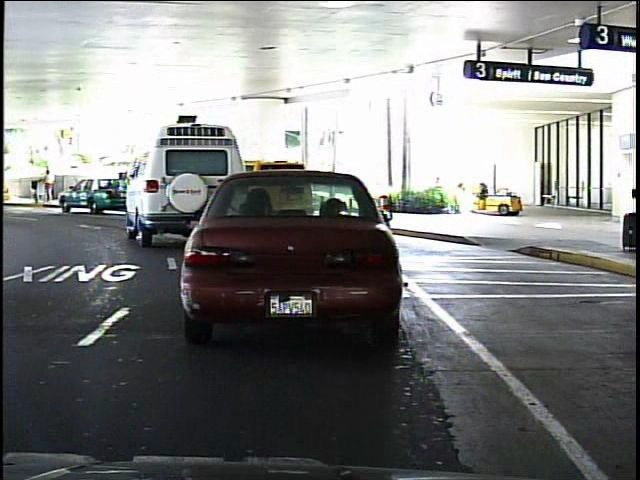person: (39, 167, 56, 205), (44, 163, 58, 203)
